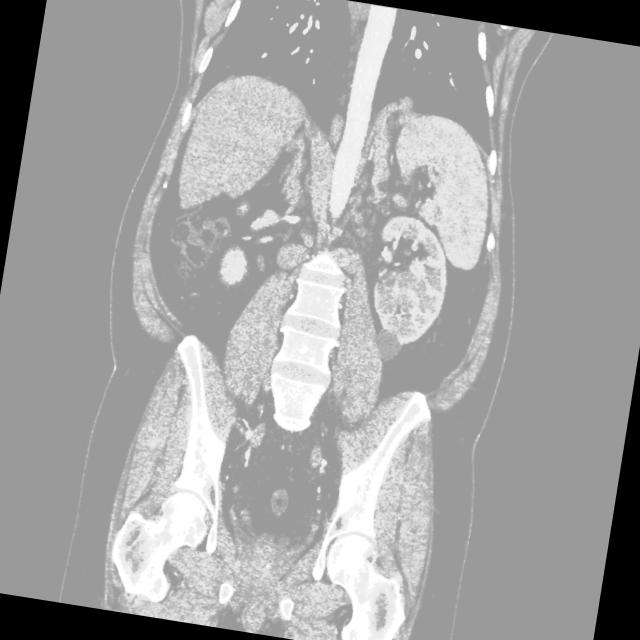TUMOR: (129, 108, 561, 399)
